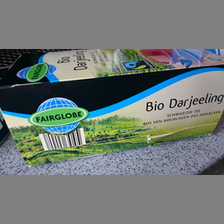tea: (1, 50, 224, 169)
